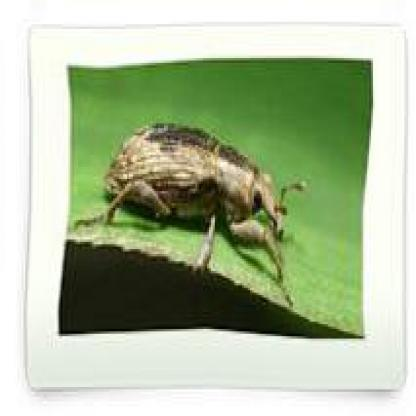rice-bug: (103, 120, 299, 263)
